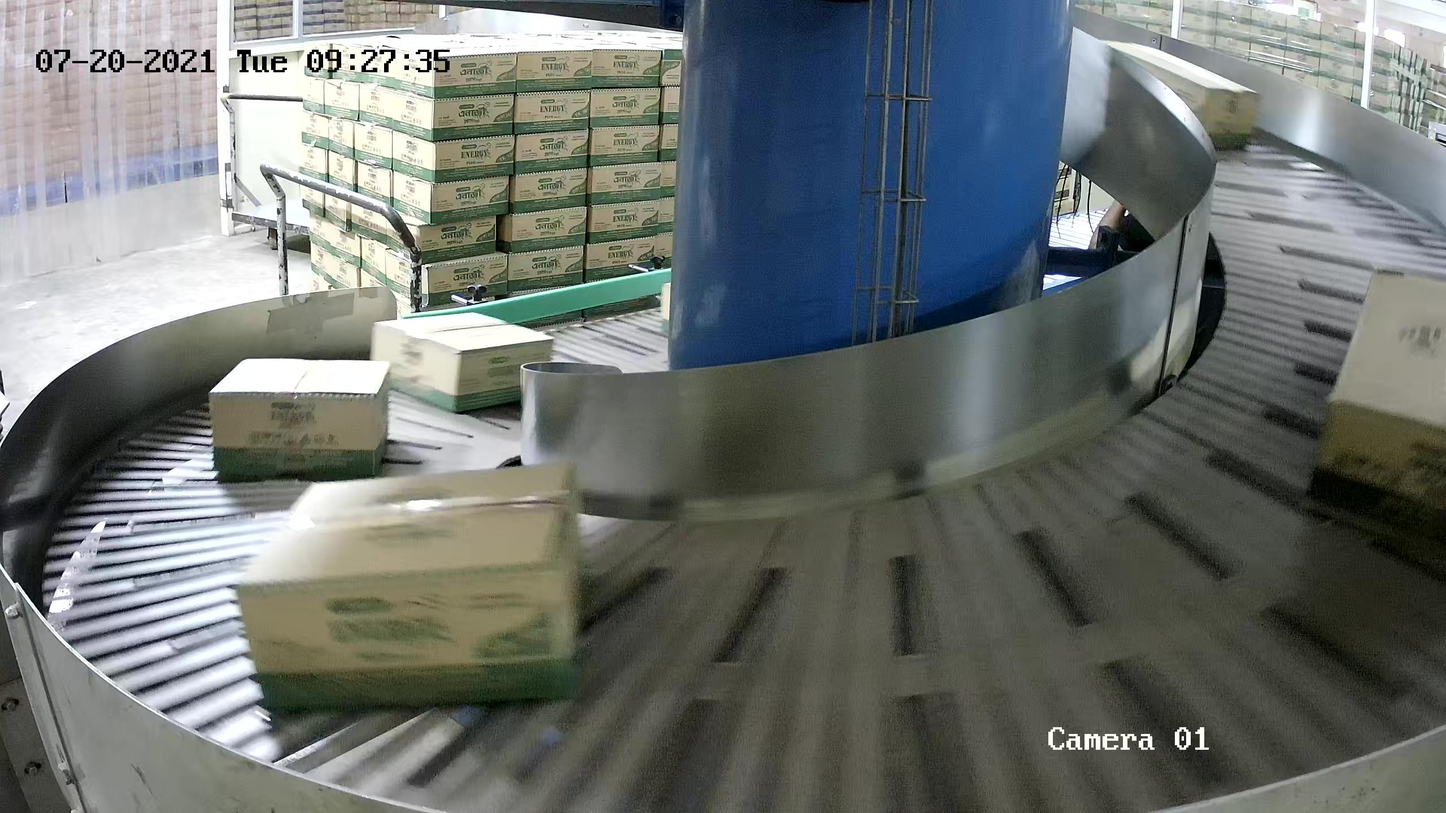Box: (233, 457, 583, 714), (1304, 269, 1446, 544), (207, 357, 392, 480), (369, 311, 556, 413), (1098, 38, 1261, 149)
